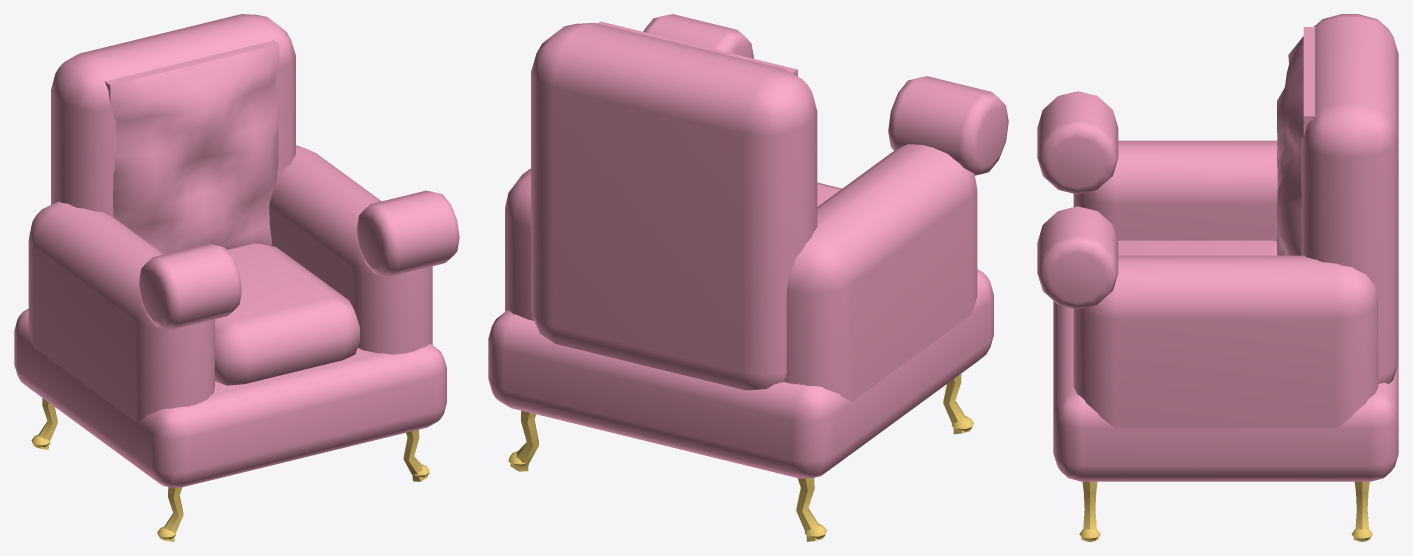
Rendered from armchair_capitone.glb.
3 views of the same model, side by side, from view 1: azimuth 30°, elevation 25°; view 2: azimuth 150°, elevation 25°; view 3: azimuth 270°, elevation 25° (orthographic). The views are drawn at different scales.
Parts seen in each view (by area): view 1: armchair_capitone; view 2: armchair_capitone; view 3: armchair_capitone.
Boxes of the visible parts, <box> form: armchair_capitone: <box>14,14,459,541</box>; armchair_capitone: <box>488,14,1008,541</box>; armchair_capitone: <box>1037,14,1398,541</box>.
Size of the model in its own units: 0.9 by 1.13 by 0.89.
